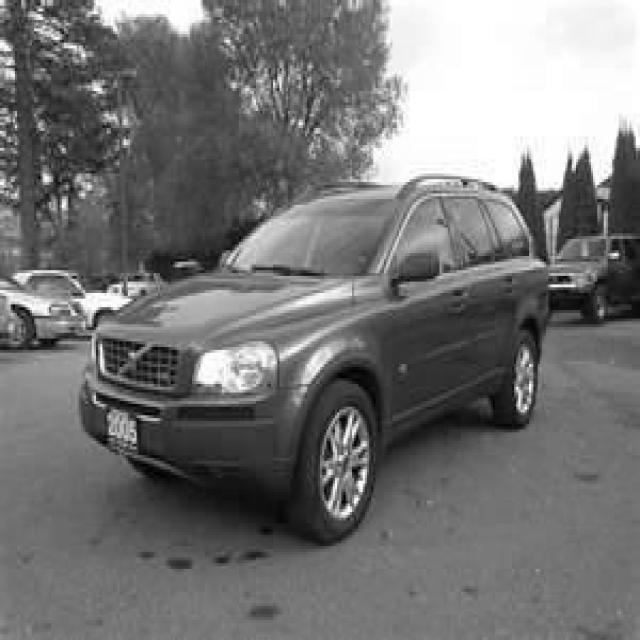car: (77, 171, 550, 543), (546, 230, 638, 322), (0, 279, 87, 351)
